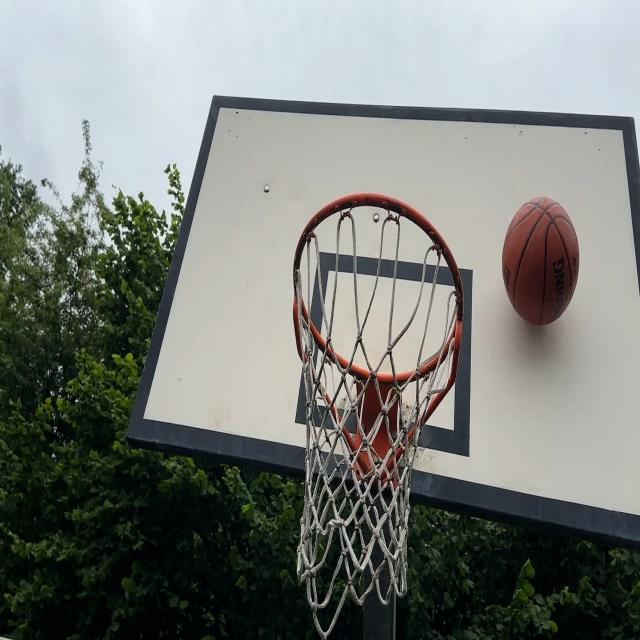rebound_hit: (502, 190, 582, 343)
